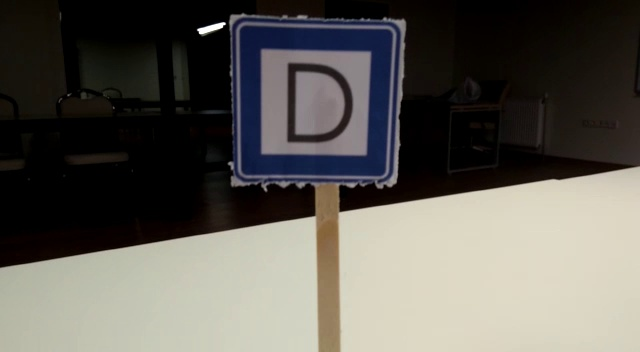durak: (232, 22, 401, 187)
